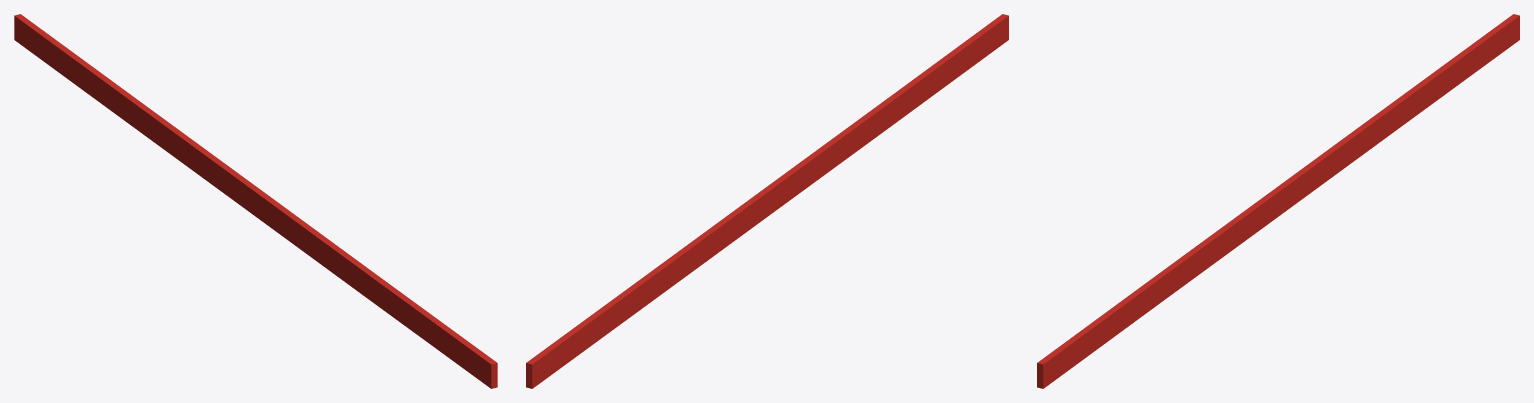
The model's file is nur schnur (solidified).fbx.
3 renders of one model, left to right at view 1: azimuth 30°, elevation 25°; view 2: azimuth 150°, elevation 25°; view 3: azimuth 330°, elevation 25°, orthographic.
Parts seen in each view (by area): view 1: thread; view 2: thread; view 3: thread.
Boxes of the visible parts, x1,y1,x2,y2 form: thread: [14, 14, 497, 388]; thread: [526, 14, 1008, 388]; thread: [1037, 14, 1519, 388].
Bounding box in the file's own units: 1.04 × 3.67 × 130.
